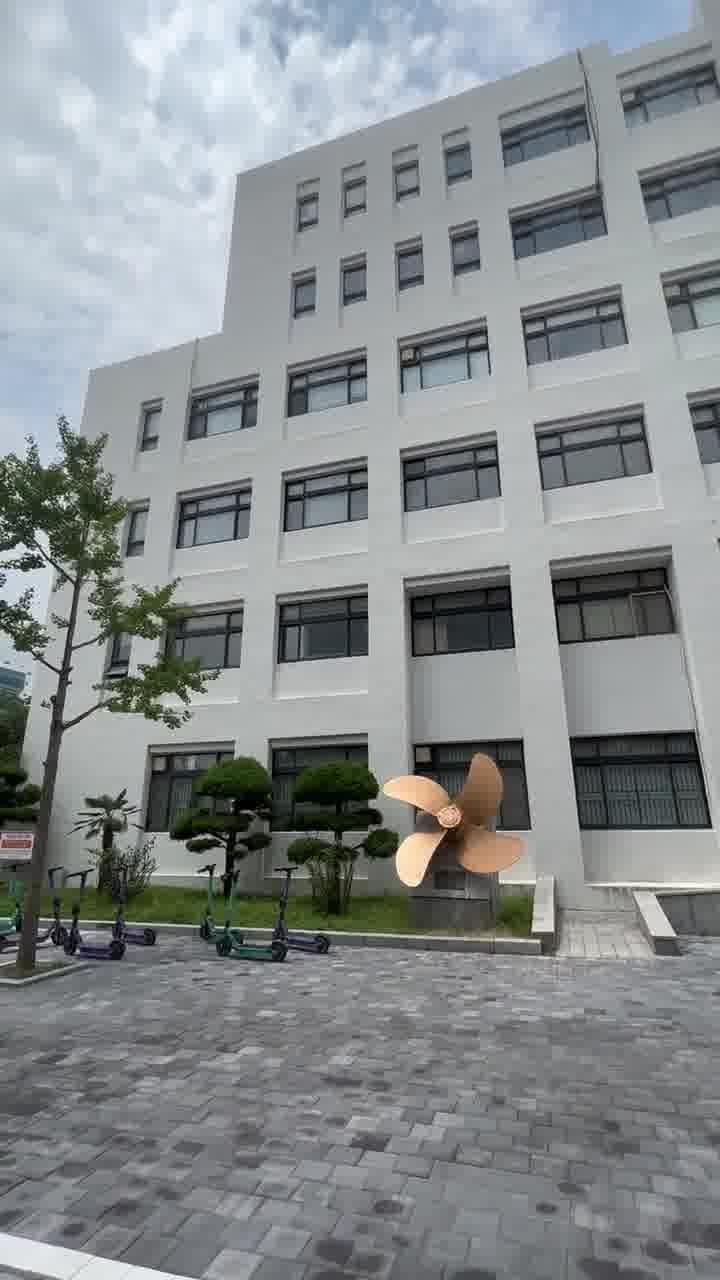building: (208, 42, 720, 886)
